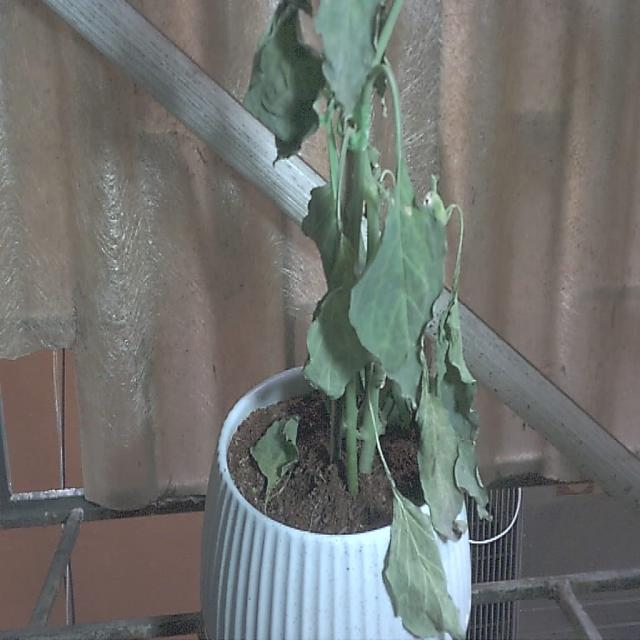Leaf: (351, 184, 446, 404), (382, 488, 463, 640), (246, 7, 321, 155)
